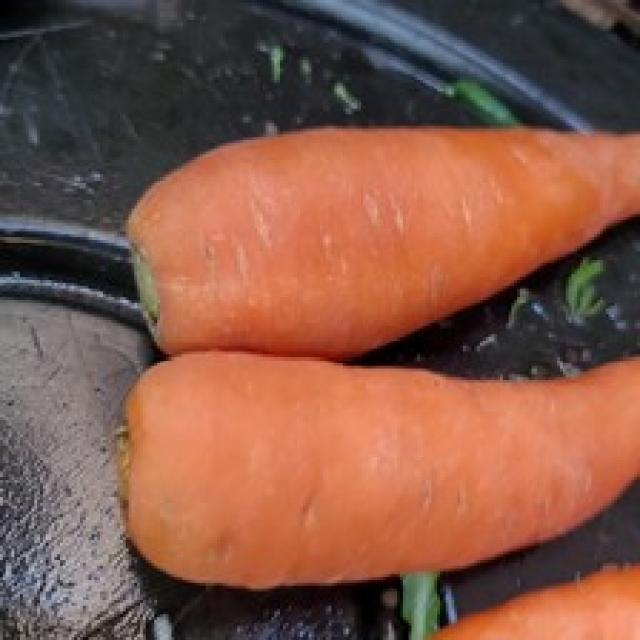carrot: (122, 347, 640, 591), (128, 120, 640, 357)
